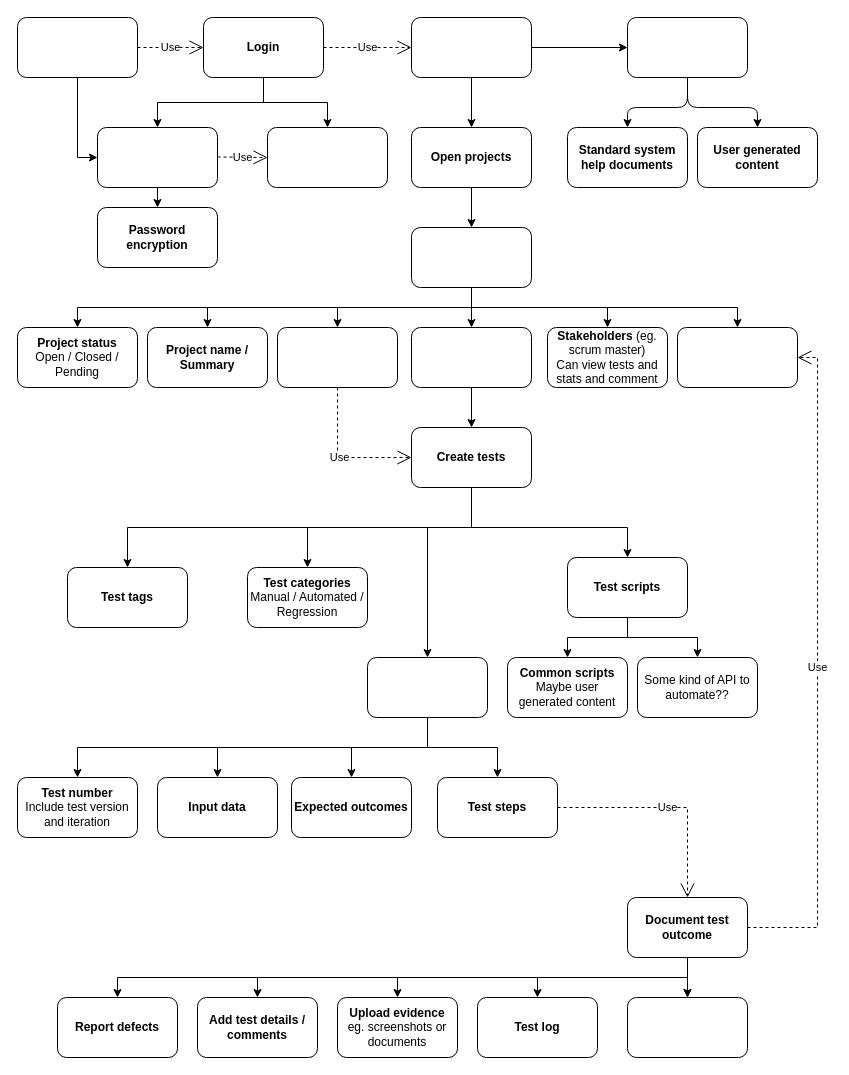
The diagram is 849 pixels wide and 1075 high, and some of its shapes have lost their labels. Each missing label, with the centre of its shape:
"Acceptance criteria Can be attached to tests and indexed" belongs at [337,357].
"Analytics / KPIs Summary of test results for project" belongs at [737,357].
"Define test cases" belongs at [427,687].
"Developers / Testers Can start and stop tests" belongs at [471,357].
"Documentation" belongs at [687,47].
"Project details" belongs at [471,257].
"Registration" belongs at [77,47].
"Test status Pass / Fail / Pending" belongs at [687,1027].
"User dashboard" belongs at [471,47].
"User database" belongs at [157,157].
"User validation" belongs at [327,157].
